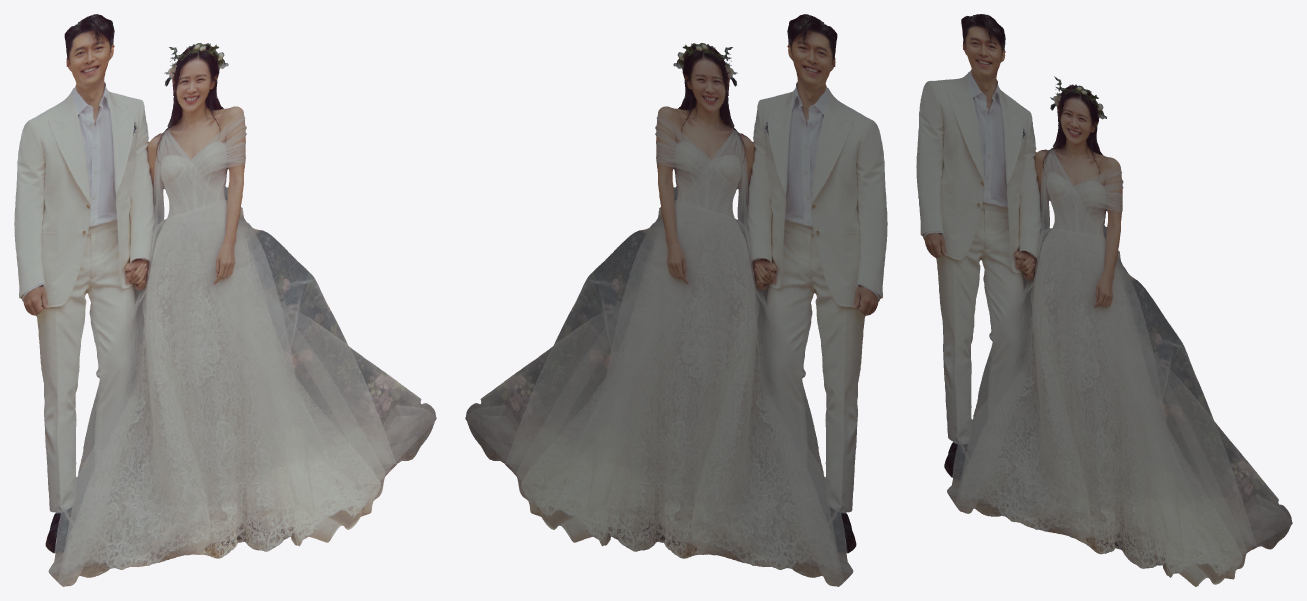
File: dkwedding.glb
3 renders of one model, left to right at view 1: azimuth 30°, elevation 25°; view 2: azimuth 150°, elevation 25°; view 3: azimuth 330°, elevation 25°, orthographic. The views are drawn at different scales.
Parts seen in each view (by area): view 1: KakaoTalk_20230711_111645446_i2m_Front; view 2: KakaoTalk_20230711_111645446_i2m_Front; view 3: KakaoTalk_20230711_111645446_i2m_Front.
Boxes of the visible parts, <box> form: KakaoTalk_20230711_111645446_i2m_Front: <box>14,14,436,586</box>; KakaoTalk_20230711_111645446_i2m_Front: <box>465,14,887,586</box>; KakaoTalk_20230711_111645446_i2m_Front: <box>916,14,1292,586</box>.
Bounding box in the file's own units: 0.5291 × 0.7009 × 0.
Materials: 1 (1 with a texture image).
